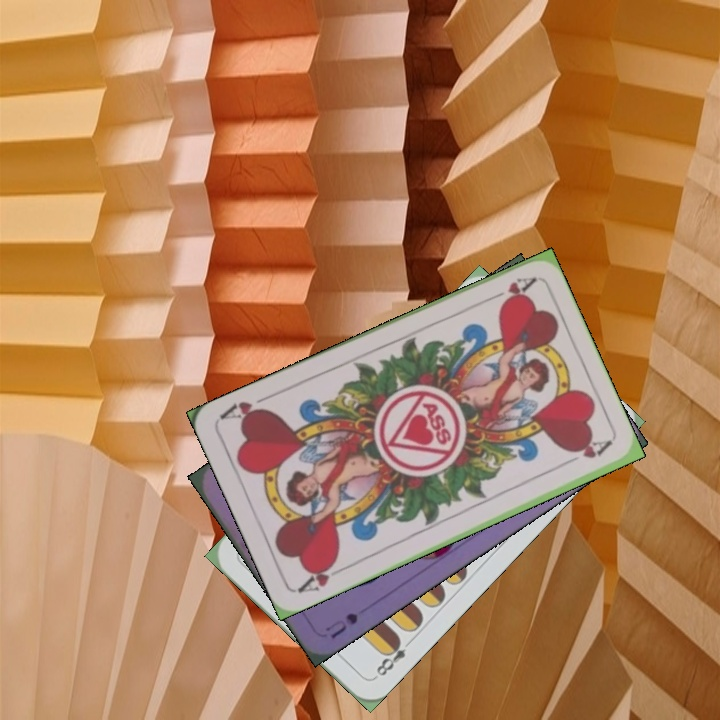E8: (370, 632, 416, 681)
HA: (293, 557, 349, 596), (481, 272, 538, 308)
SU: (321, 608, 361, 642)
